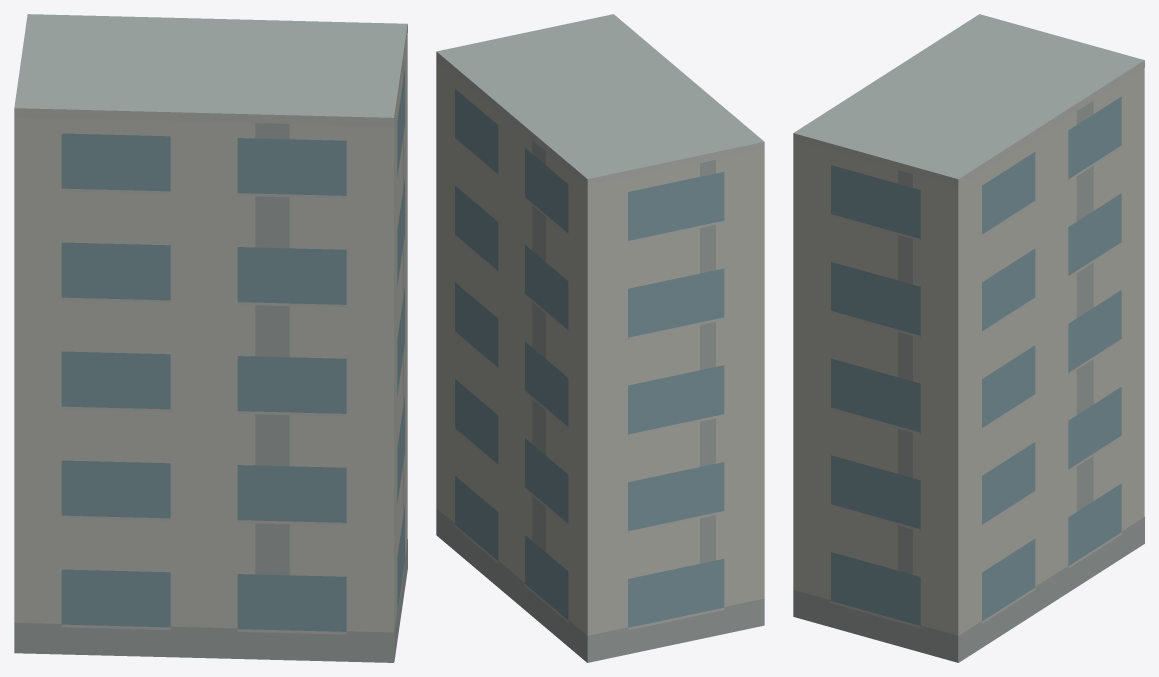
File: residential-6ed4382a-506f-431e-b51e-97f825d7597a.glb
The picture shows the model from 3 angles, left to right: view 1: azimuth 30°, elevation 25°; view 2: azimuth 150°, elevation 25°; view 3: azimuth 270°, elevation 25°; orthographic projection. The views are drawn at different scales.
Parts seen in each view (by area): view 1: residential-6ed4382a-506f-431e-b51e-97f825d7597a.tmp; view 2: residential-6ed4382a-506f-431e-b51e-97f825d7597a.tmp; view 3: residential-6ed4382a-506f-431e-b51e-97f825d7597a.tmp.
Part boxes in pixels (left/top/right/bottom): residential-6ed4382a-506f-431e-b51e-97f825d7597a.tmp: left=14, top=14, right=407, bottom=662; residential-6ed4382a-506f-431e-b51e-97f825d7597a.tmp: left=436, top=14, right=764, bottom=662; residential-6ed4382a-506f-431e-b51e-97f825d7597a.tmp: left=793, top=14, right=1144, bottom=662.
Bounding box in the file's own units: 11.18 × 15.25 × 10.05.
